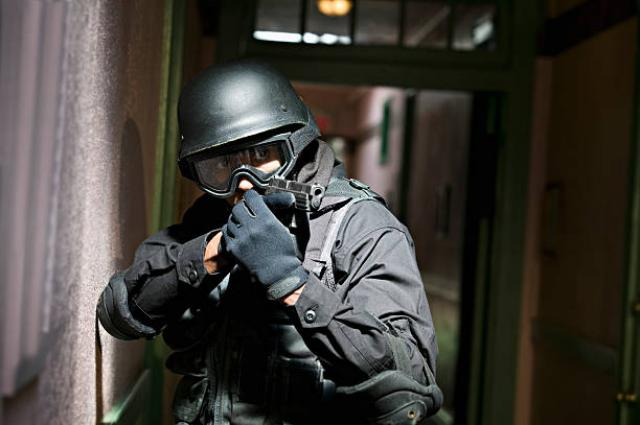other: (164, 74, 436, 423)
